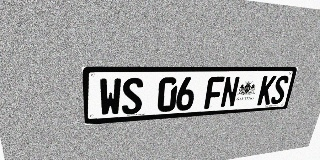0: (157, 77, 178, 112)
6: (175, 77, 196, 111)
F: (204, 76, 225, 109)
K: (257, 76, 277, 105)
N: (220, 76, 240, 108)
S: (122, 78, 143, 115), (270, 75, 290, 104)
W: (99, 78, 121, 116)
